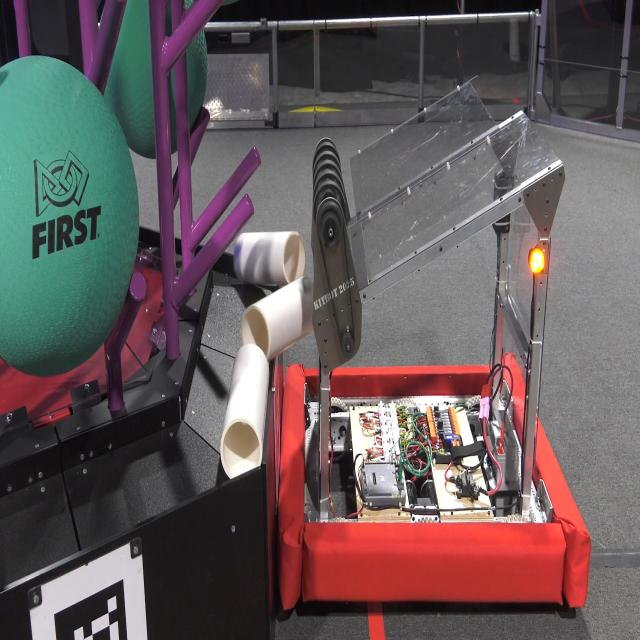Coral: (219, 342, 269, 480), (240, 275, 314, 361), (232, 230, 306, 286)
